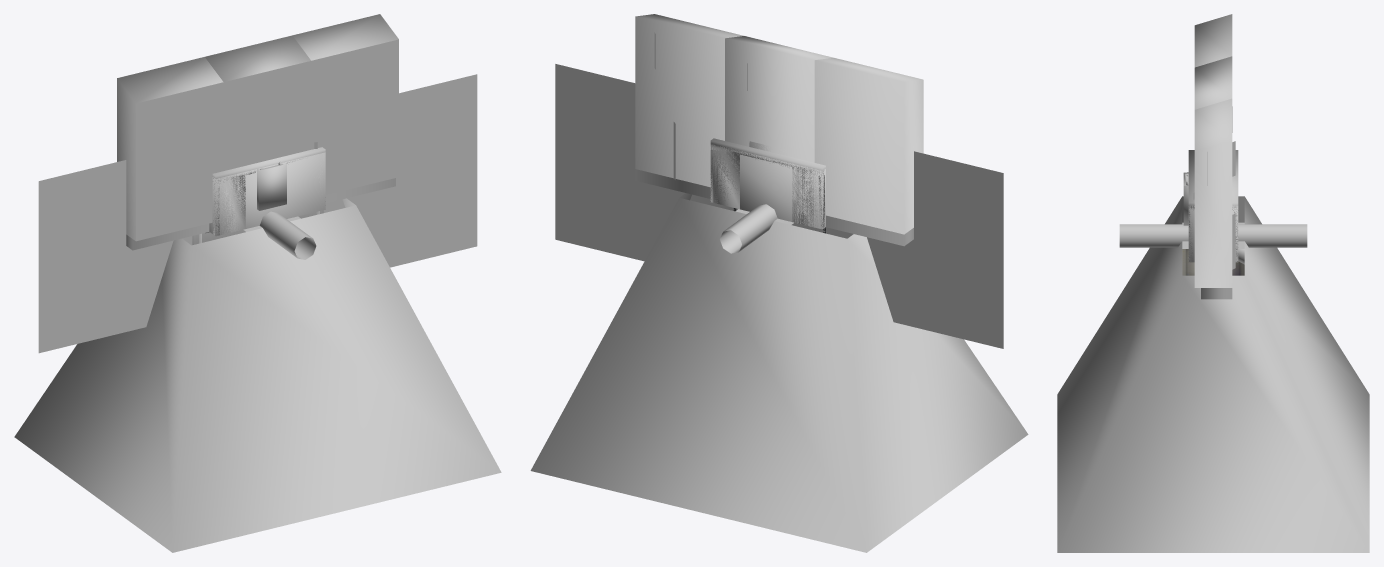
File: Props.fbx
The picture shows the model from 3 angles, left to right: view 1: azimuth 30°, elevation 25°; view 2: azimuth 150°, elevation 25°; view 3: azimuth 270°, elevation 25°; orthographic projection. The views are drawn at different scales.
Visible parts, largest first — view 1: MESH-CeilingLight-Volumetric, MESH-TrophyCollection, MESH-Banner1, MESH-Drawers, MESH-Workstation, MESH-Pipe-I, MESH-WaterFountain, MESH-Table; view 2: MESH-CeilingLight-Volumetric, MESH-TrophyCollection, MESH-Banner1, MESH-Drawers, MESH-Workstation, MESH-Pipe-I, MESH-Table; view 3: MESH-CeilingLight-Volumetric, MESH-TrophyCollection, MESH-Pipe-I, MESH-Table, MESH-Drawers, MESH-CeilingLight.
Boxes of the visible parts, x1,y1,x2,y2 form: MESH-CeilingLight-Volumetric: (14,198,501,552); MESH-TrophyCollection: (117,14,398,250); MESH-Banner1: (38,74,477,353); MESH-Drawers: (209,152,325,236); MESH-Workstation: (216,152,325,234); MESH-Pipe-I: (259,211,316,259); MESH-WaterFountain: (257,161,286,210); MESH-Table: (212,147,325,235); MESH-CeilingLight-Volumetric: (530,193,1028,552); MESH-TrophyCollection: (635,14,923,246); MESH-Banner1: (555,64,1003,348); MESH-Drawers: (710,144,825,229); MESH-Workstation: (710,145,822,227); MESH-Pipe-I: (720,204,777,253); MESH-Table: (710,138,825,229); MESH-CeilingLight-Volumetric: (1057,196,1369,552); MESH-TrophyCollection: (1193,14,1235,299); MESH-Pipe-I: (1119,224,1307,247); MESH-Table: (1188,150,1238,261); MESH-Drawers: (1188,205,1238,262); MESH-CeilingLight: (1182,249,1244,275).
Bounding box in the file's own units: 800 × 500 × 700.
